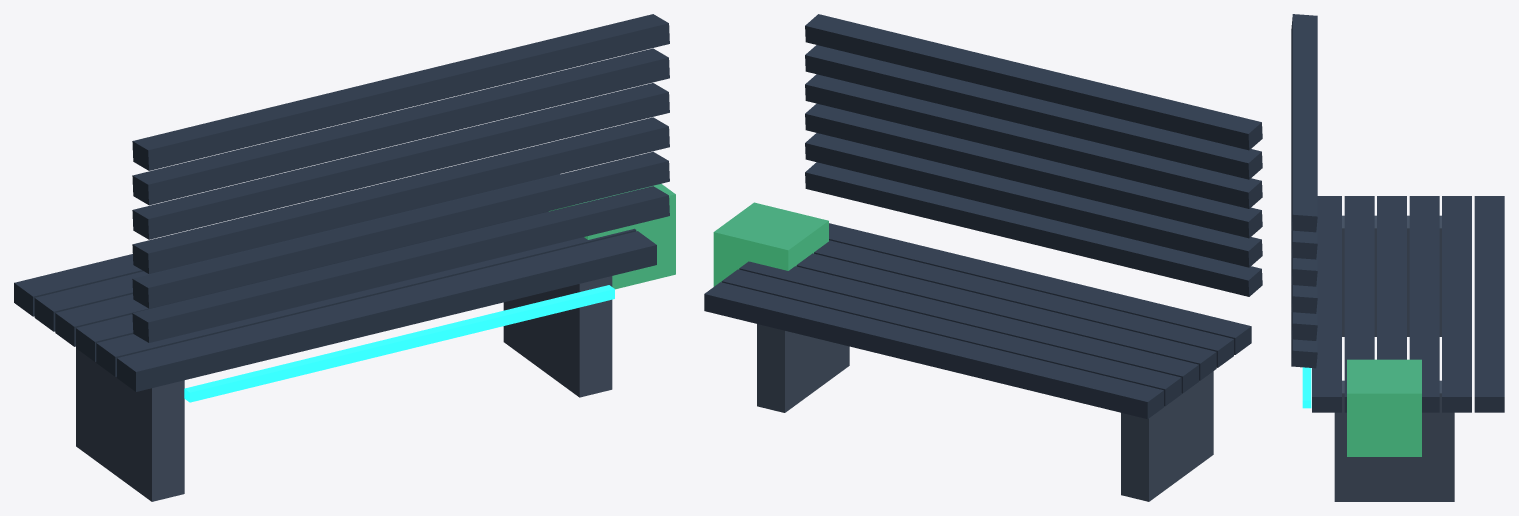
The model's file is smart_bench.glb.
3 views of the same model, side by side, from view 1: azimuth 30°, elevation 25°; view 2: azimuth 150°, elevation 25°; view 3: azimuth 270°, elevation 25° (orthographic). The views are drawn at different scales.
Visible parts, largest first — view 1: smart_bench, smart_bench_leg_-0.78, smart_bench_leg_0.78, smart_bench_charge_strip, smart_bench_charge_module; view 2: smart_bench, smart_bench_leg_-0.78, smart_bench_charge_module, smart_bench_leg_0.78; view 3: smart_bench, smart_bench_leg_0.78, smart_bench_charge_module, smart_bench_leg_-0.78, smart_bench_charge_strip.
Part boxes in pixels (x1,y1,x2,y2): smart_bench: [14, 14, 669, 391]; smart_bench_leg_-0.78: [76, 348, 184, 501]; smart_bench_leg_0.78: [503, 276, 612, 397]; smart_bench_charge_strip: [184, 285, 614, 402]; smart_bench_charge_module: [549, 183, 675, 289]; smart_bench: [704, 14, 1262, 419]; smart_bench_leg_-0.78: [1121, 371, 1213, 501]; smart_bench_charge_module: [713, 202, 828, 286]; smart_bench_leg_0.78: [757, 324, 849, 412]; smart_bench: [1291, 14, 1504, 412]; smart_bench_leg_0.78: [1334, 380, 1454, 501]; smart_bench_charge_module: [1347, 359, 1421, 456]; smart_bench_leg_-0.78: [1342, 215, 1441, 336]; smart_bench_charge_strip: [1302, 367, 1311, 408].
Bounding box in the file's own units: 2.05 × 1.32 × 0.8526.
